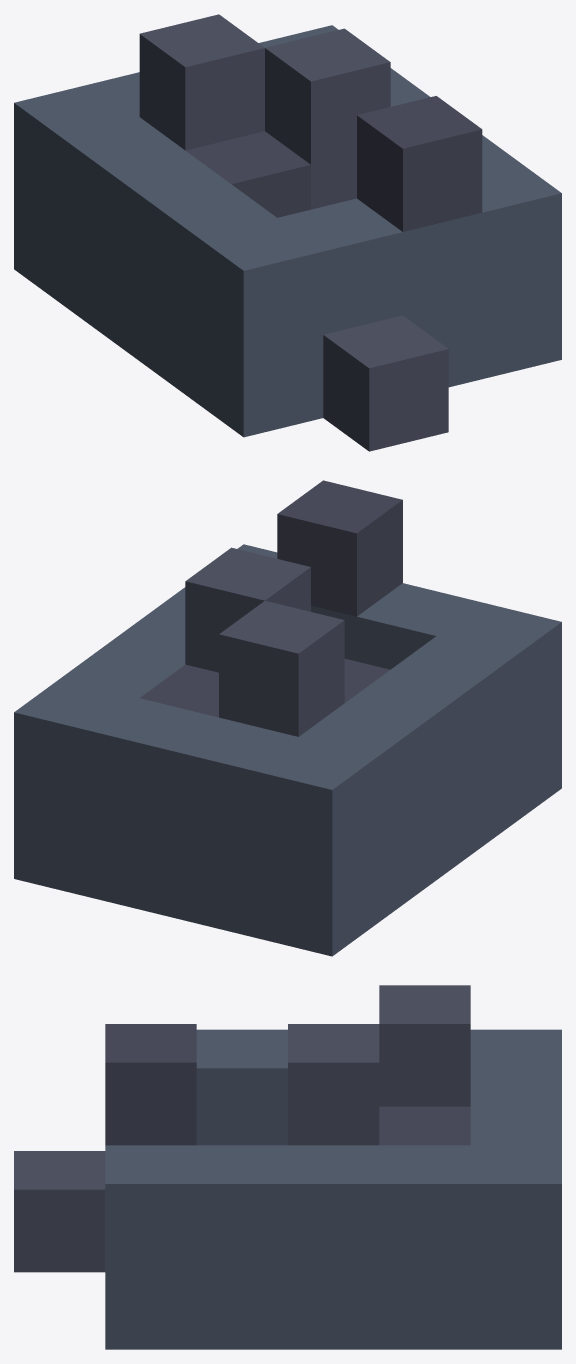
Rendered from Market_Items.fbx.
3 views of the same model, one above another, from view 1: azimuth 30°, elevation 25°; view 2: azimuth 150°, elevation 25°; view 3: azimuth 270°, elevation 25° (orthographic).
Parts seen in each view (by area): view 1: Market_Items; view 2: Market_Items; view 3: Market_Items.
Part boxes in pixels (bbox=[...]): Market_Items: bbox=[14, 14, 561, 451]; Market_Items: bbox=[14, 480, 561, 956]; Market_Items: bbox=[14, 985, 561, 1349].
Size of the model in its own units: 40 by 30 by 60.
Materials: 1 (1 with a texture image).
